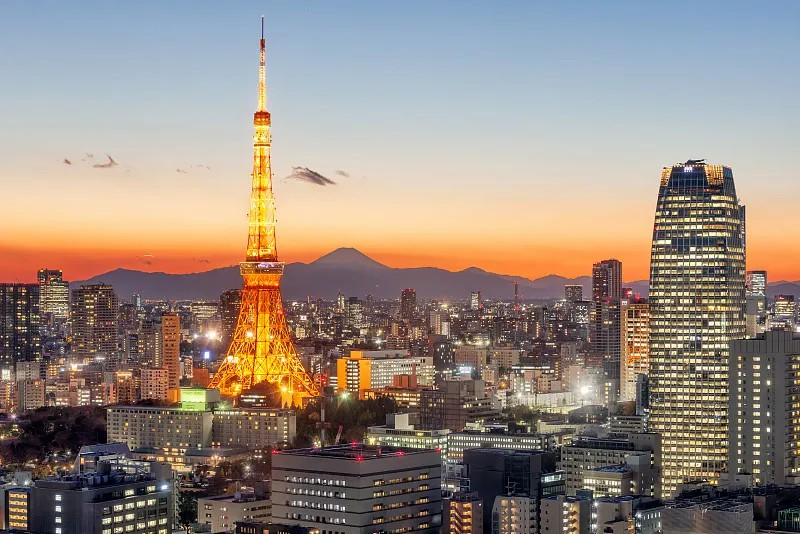Tokyo: (208, 13, 320, 409)
